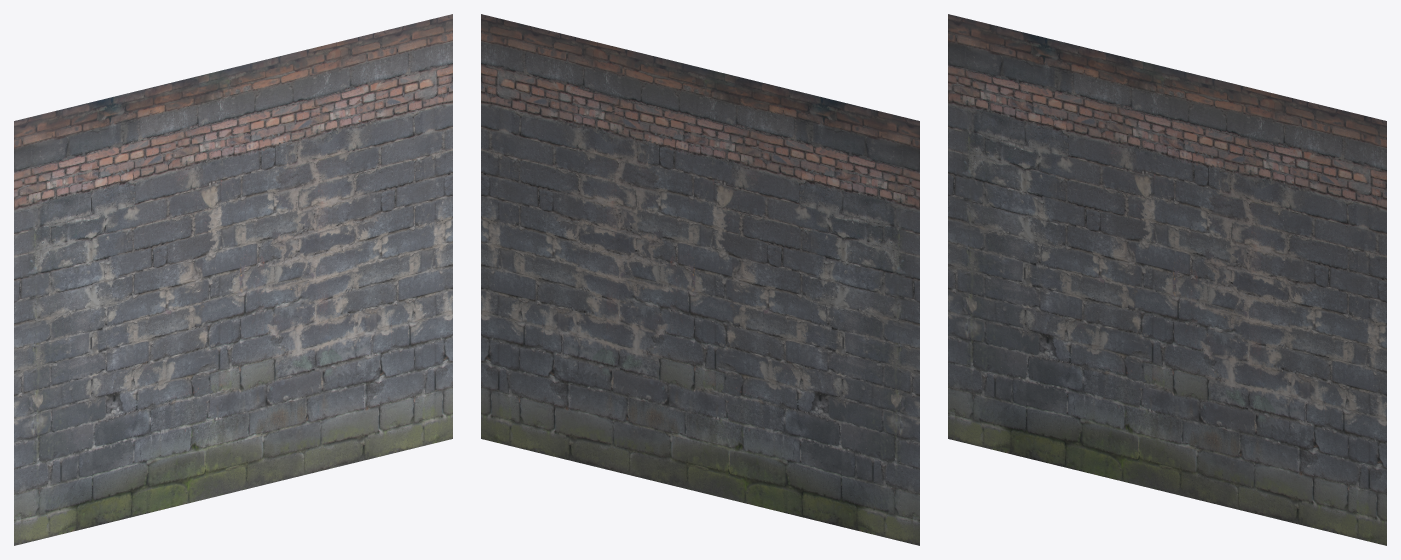
Rendered from sm_Wall_06_07.fbx.
3 renders of one model, left to right at view 1: azimuth 30°, elevation 25°; view 2: azimuth 150°, elevation 25°; view 3: azimuth 330°, elevation 25°, orthographic.
Visible parts, largest first — view 1: sm_Wall_06_07_LOD0; view 2: sm_Wall_06_07_LOD0; view 3: sm_Wall_06_07_LOD0.
Boxes of the visible parts, box(x1,y1,x2,y2) form: sm_Wall_06_07_LOD0: box(14, 14, 452, 545); sm_Wall_06_07_LOD0: box(481, 14, 919, 545); sm_Wall_06_07_LOD0: box(948, 14, 1386, 545).
Bounding box in the file's own units: 0.612 × 400 × 370.
